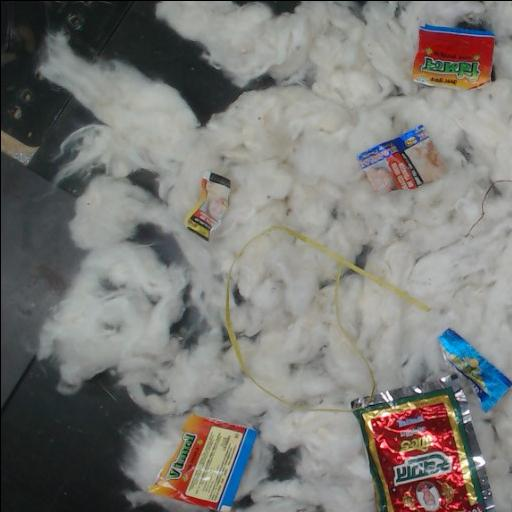conveyor belt: (1, 1, 272, 512), (133, 225, 183, 263), (170, 304, 205, 346), (267, 448, 299, 481), (129, 169, 157, 195)
cotton: (38, 1, 512, 512), (231, 232, 370, 406), (478, 396, 512, 512)
packet: (351, 329, 511, 512), (149, 415, 257, 511), (359, 125, 443, 191), (411, 27, 493, 88), (185, 172, 230, 240)
thread: (225, 225, 430, 411), (463, 180, 495, 237)
